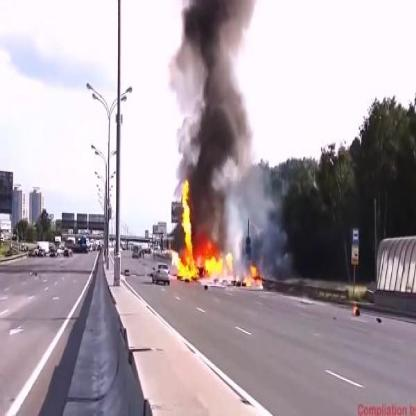fire: (168, 177, 236, 286), (241, 259, 263, 291)
